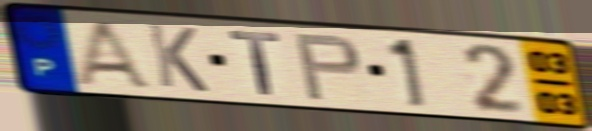1: (384, 38, 431, 110)
2: (458, 41, 529, 116)
A: (71, 19, 158, 92)
K: (143, 21, 212, 95)
P: (291, 32, 365, 103)
T: (225, 29, 283, 98)
